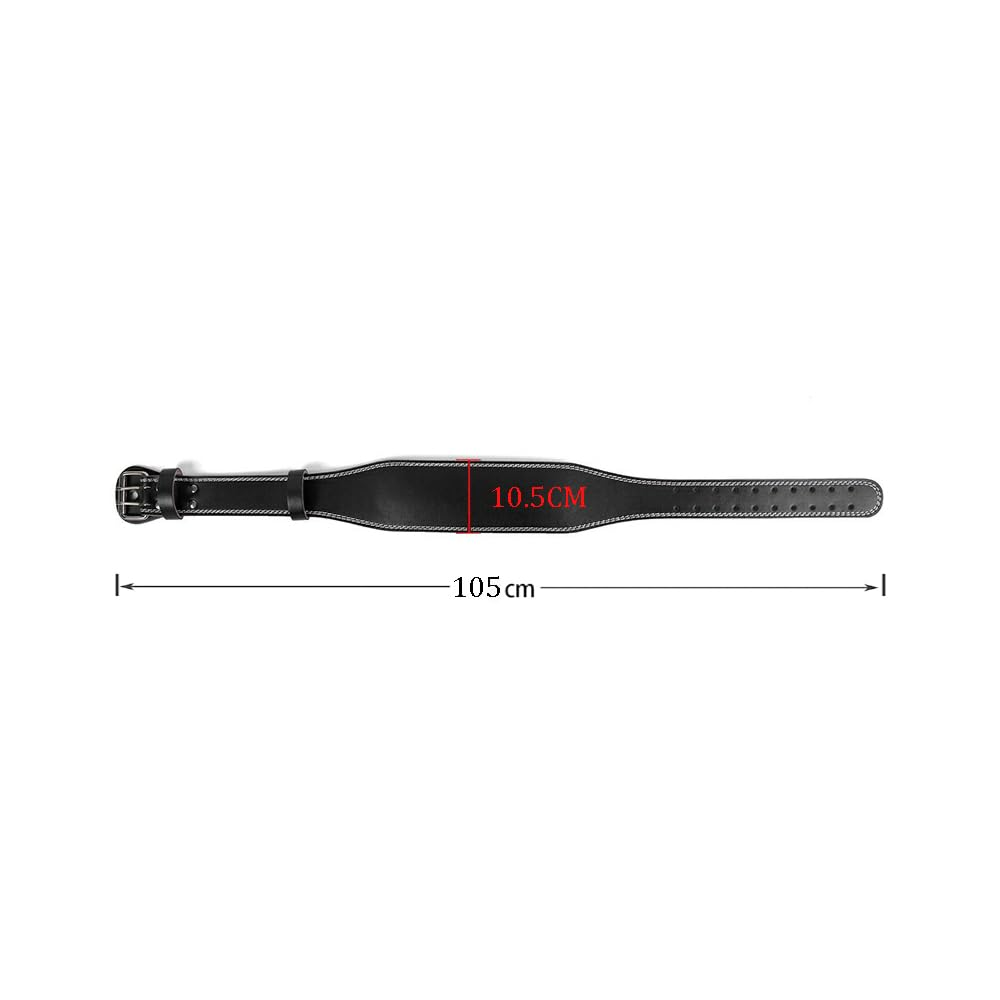105cm: (454, 576, 534, 598)
lk: (116, 574, 133, 596)
|: (882, 574, 885, 596)
